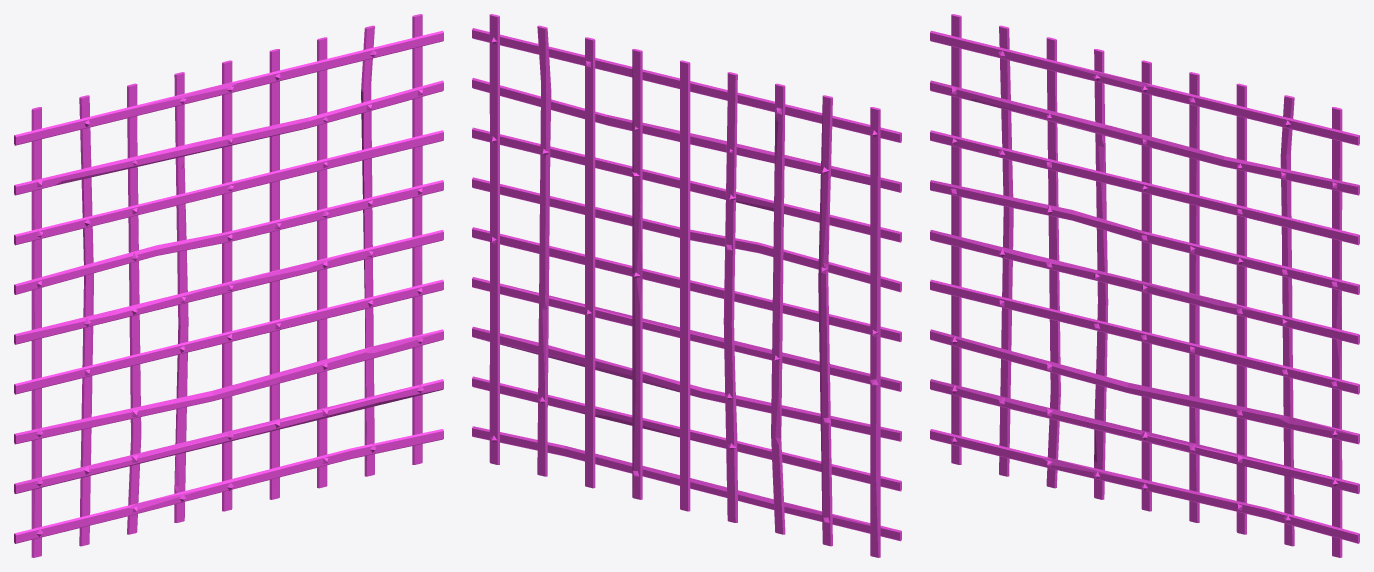
File: SM_Wall_Bars_3x3m_Fantasy.fbx
3 renders of one model, left to right at view 1: azimuth 30°, elevation 25°; view 2: azimuth 150°, elevation 25°; view 3: azimuth 330°, elevation 25°, orthographic.
Parts seen in each view (by area): view 1: SM_Wall_Bars_3x3m_Fantasy; view 2: SM_Wall_Bars_3x3m_Fantasy; view 3: SM_Wall_Bars_3x3m_Fantasy.
Part boxes in pixels (x1,y1,x2,y2): SM_Wall_Bars_3x3m_Fantasy: [14, 14, 443, 557]; SM_Wall_Bars_3x3m_Fantasy: [472, 14, 901, 557]; SM_Wall_Bars_3x3m_Fantasy: [930, 14, 1359, 557].
Size of the model in its own units: 3 by 3 by 0.1041.
